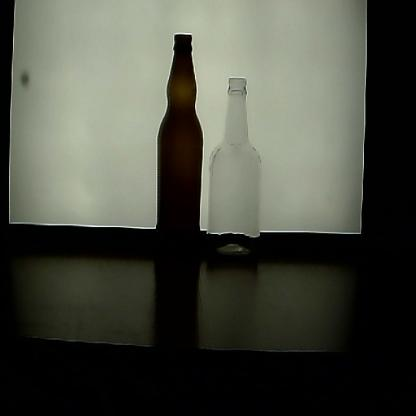Can: (156, 34, 204, 272), (205, 77, 264, 268)
